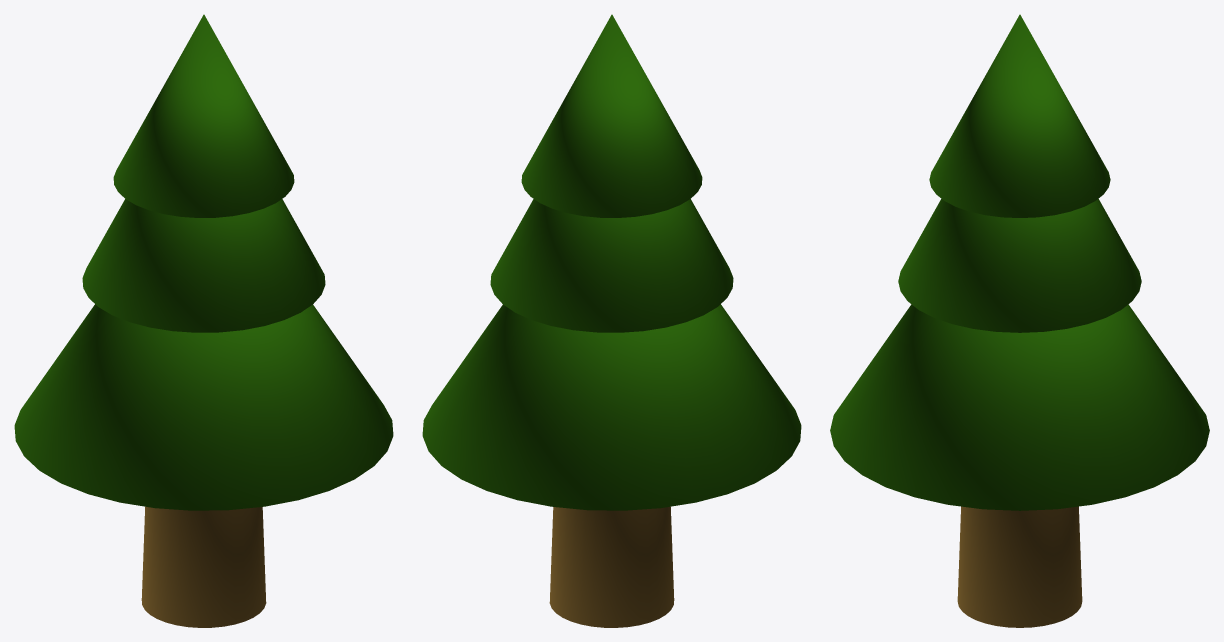
The model's file is Tree1.fbx.
3 renders of one model, left to right at view 1: azimuth 30°, elevation 25°; view 2: azimuth 150°, elevation 25°; view 3: azimuth 270°, elevation 25°, orthographic.
Visible parts, largest first — view 1: Circle; view 2: Circle; view 3: Circle.
Boxes of the visible parts, <box> form: Circle: <box>14,14,393,627</box>; Circle: <box>422,14,801,627</box>; Circle: <box>830,14,1209,627</box>.
Size of the model in its own units: 609 by 1040 by 609.
